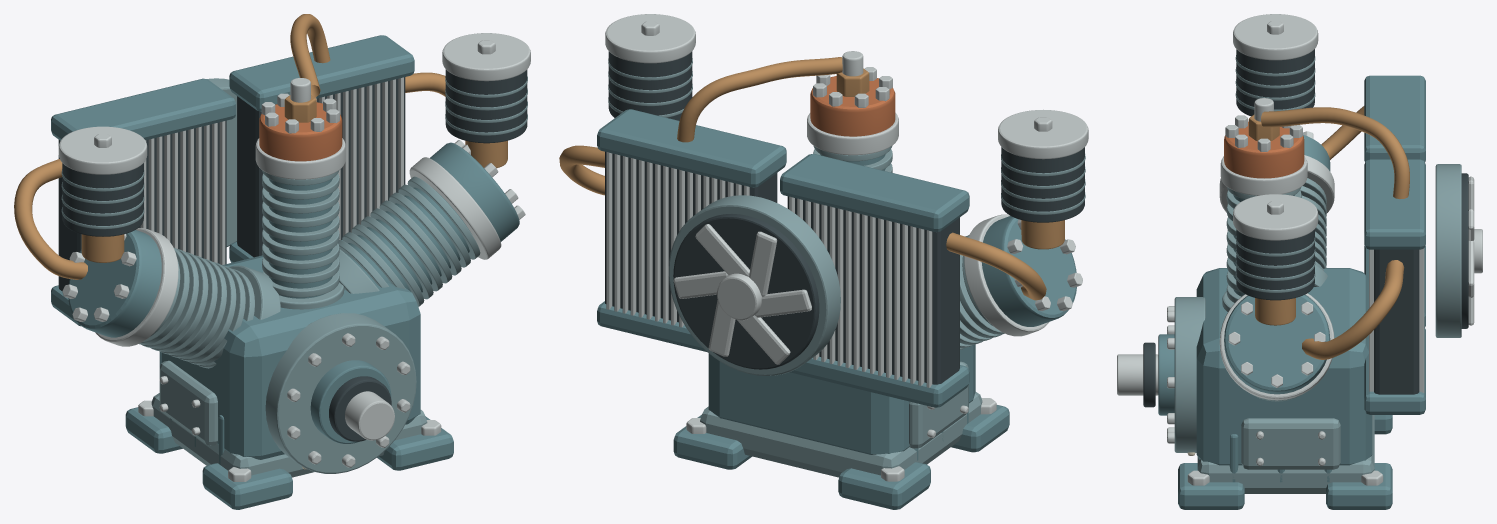
The picture shows the model from 3 angles, left to right: view 1: azimuth 30°, elevation 25°; view 2: azimuth 150°, elevation 25°; view 3: azimuth 270°, elevation 25°; orthographic projection. The views are drawn at different scales.
Parts seen in each view (by area): view 1: case__crankcase, case__round cover, cooler__radiator core.001, cooler__header.003, cooler__header.001, low__valve head, cooler__radiator core, filters__intake filter.001, filters__intake filter, filters__lid, filters__lid.001, low__valve head.001 (+66 smaller); view 2: case__crankcase, cooler__radiator core, cooler__fan recess, cooler__header.001, cooler__header.003, cooler__fan shroud, case__sump, cooler__radiator core.001, low__valve head, filters__intake filter, filters__intake filter.001, cooler__header (+44 smaller); view 3: case__crankcase, low__valve head.001, cooler__radiator core.001, cooler__header.003, case__inspection cover.001, cooler__fan shroud, cooler__header.001, filters__intake filter.001, case__round cover, case__sump, filters__intake filter, cooler__return pipe (+19 smaller).
Part boxes in pixels (x1,y1,x2,y2): case__crankcase: (159, 255, 420, 459); case__round cover: (265, 313, 416, 473); cooler__radiator core.001: (237, 77, 405, 257); cooler__header.003: (229, 35, 414, 111); cooler__header.001: (51, 78, 235, 140); low__valve head: (68, 230, 161, 337); cooler__radiator core: (58, 120, 226, 290); filters__intake filter.001: (445, 69, 527, 143); filters__intake filter: (62, 163, 143, 236); filters__lid: (58, 126, 147, 174); filters__lid.001: (442, 33, 530, 81); low__valve head.001: (430, 142, 519, 241); case__crankcase: (708, 344, 975, 454); cooler__radiator core: (787, 196, 959, 384); cooler__fan recess: (673, 214, 819, 369); cooler__header.001: (780, 154, 969, 232); cooler__header.003: (597, 109, 786, 187); cooler__fan shroud: (668, 195, 840, 375); case__sump: (700, 392, 982, 477); cooler__radiator core.001: (605, 151, 777, 322); low__valve head: (981, 216, 1076, 326); filters__intake filter: (1001, 147, 1084, 222); filters__intake filter.001: (608, 51, 692, 120); cooler__header: (789, 356, 969, 407); case__crankcase: (1196, 268, 1372, 465); low__valve head.001: (1224, 294, 1330, 394); cooler__radiator core.001: (1374, 249, 1419, 394); cooler__header.003: (1364, 159, 1425, 249); case__inspection cover.001: (1241, 418, 1340, 469); cooler__fan shroud: (1435, 164, 1461, 337); cooler__header.001: (1364, 75, 1425, 162); filters__intake filter.001: (1236, 229, 1314, 300); case__round cover: (1174, 297, 1205, 452); case__sump: (1197, 415, 1374, 493); filters__intake filter: (1236, 49, 1314, 116); cooler__return pipe: (1261, 107, 1409, 199).
Size of the model in its own units: 3.17 by 2.5 by 2.25.
